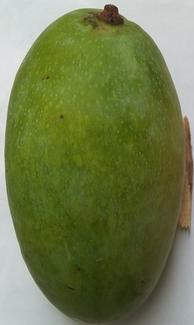Unripe: (1, 1, 194, 325)
